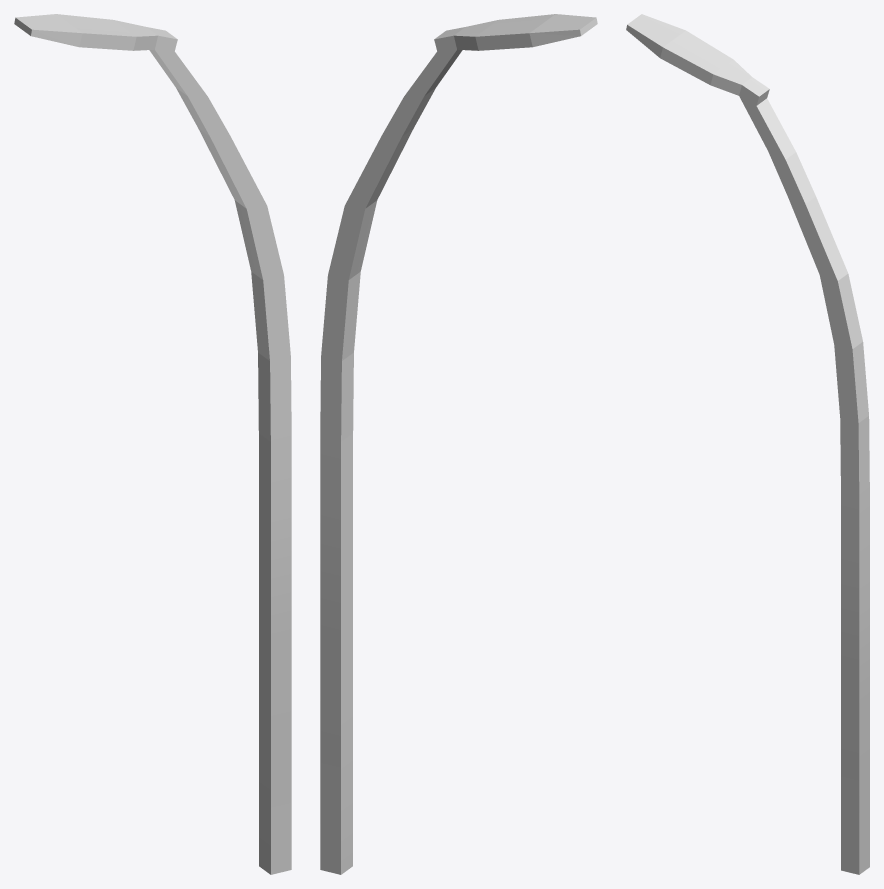
The model's file is light_4_2_world_ap_0_lev1.glb.
3 views of the same model, side by side, from view 1: azimuth 30°, elevation 25°; view 2: azimuth 150°, elevation 25°; view 3: azimuth 330°, elevation 25° (orthographic). The views are drawn at different scales.
Parts seen in each view (by area): view 1: light_4_2_world_ap_0_lev1; view 2: light_4_2_world_ap_0_lev1; view 3: light_4_2_world_ap_0_lev1.
Boxes of the visible parts, box(x1,y1,x2,y2) form: light_4_2_world_ap_0_lev1: box(14, 14, 291, 874); light_4_2_world_ap_0_lev1: box(320, 14, 597, 874); light_4_2_world_ap_0_lev1: box(626, 14, 869, 874).
Bounding box in the file's own units: 1.01 × 3.32 × 0.1744.
Materials: 1 (1 with a texture image).
